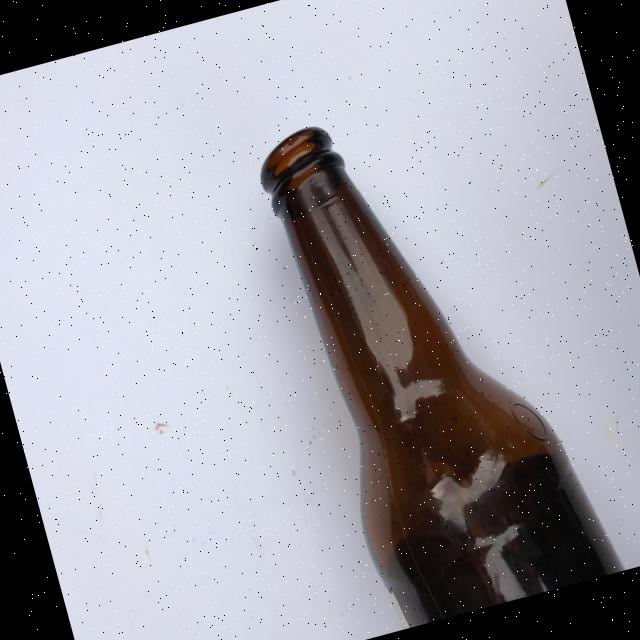glass: (250, 76, 624, 634)
